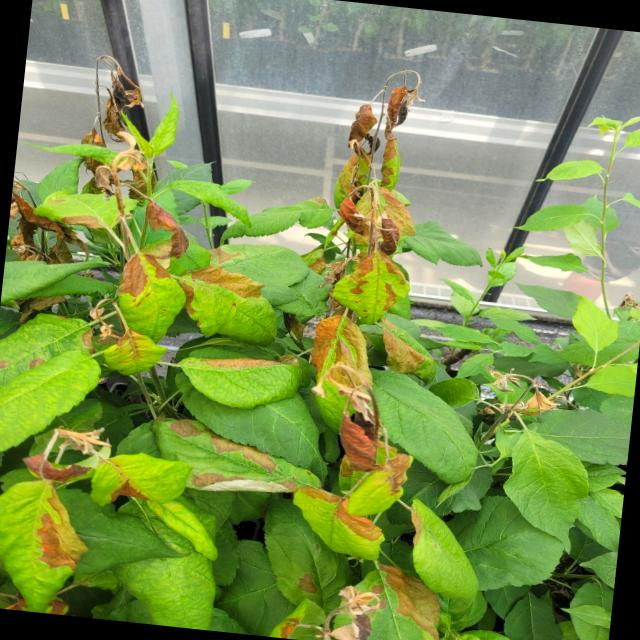-FireBlight-: (294, 60, 433, 560), (13, 124, 198, 303), (23, 432, 195, 573), (182, 251, 286, 346), (276, 581, 393, 640), (381, 559, 444, 640), (97, 53, 143, 144)
